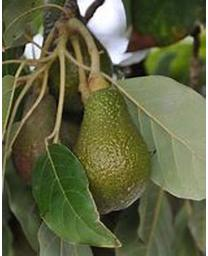avocado: (69, 84, 156, 216)
